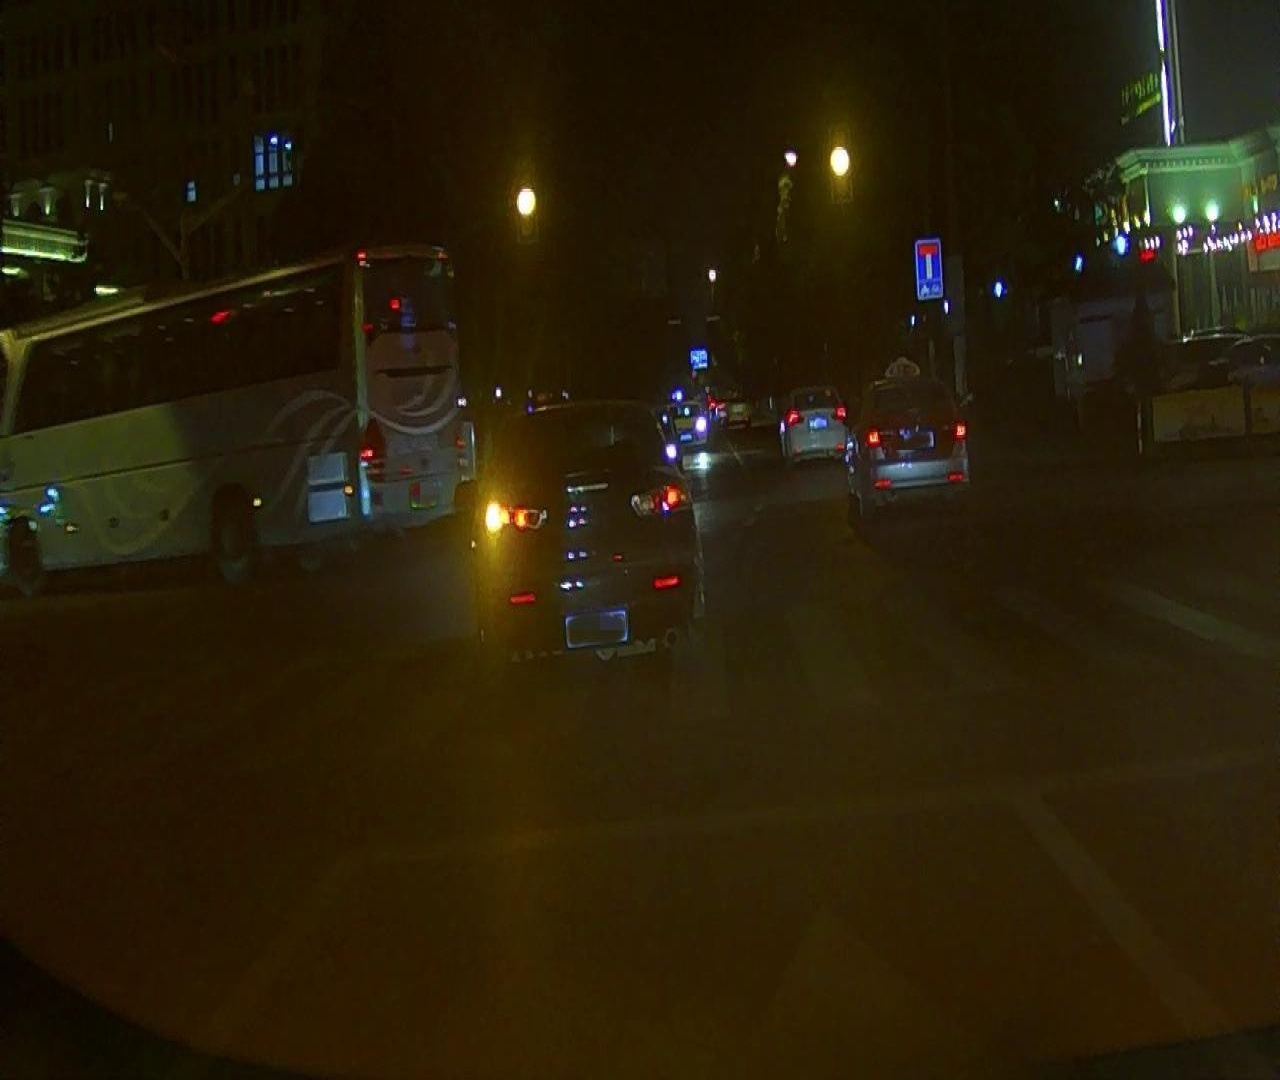yellow: (831, 129, 850, 204), (514, 174, 540, 223)
